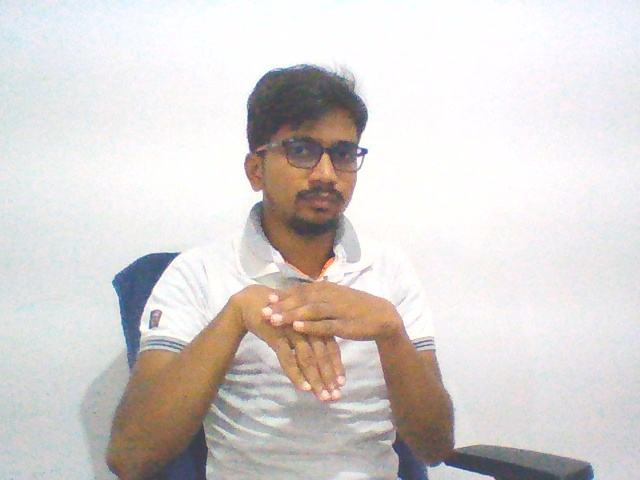pineapple: (226, 273, 404, 406)
